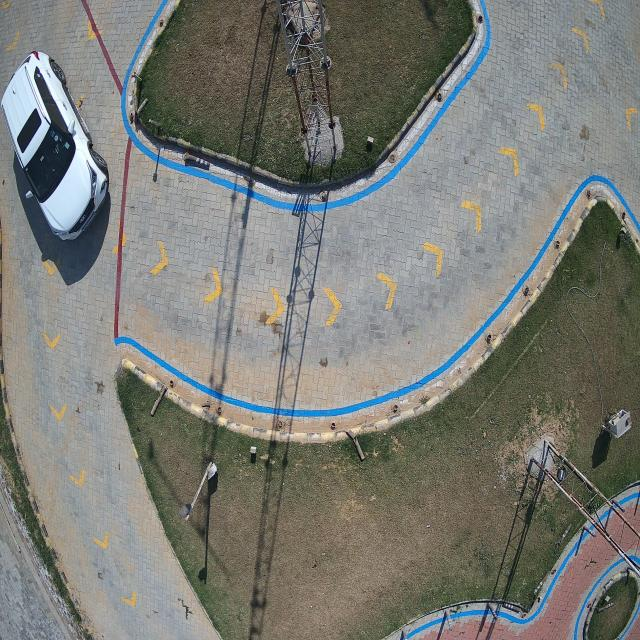car: (3, 52, 109, 246)
